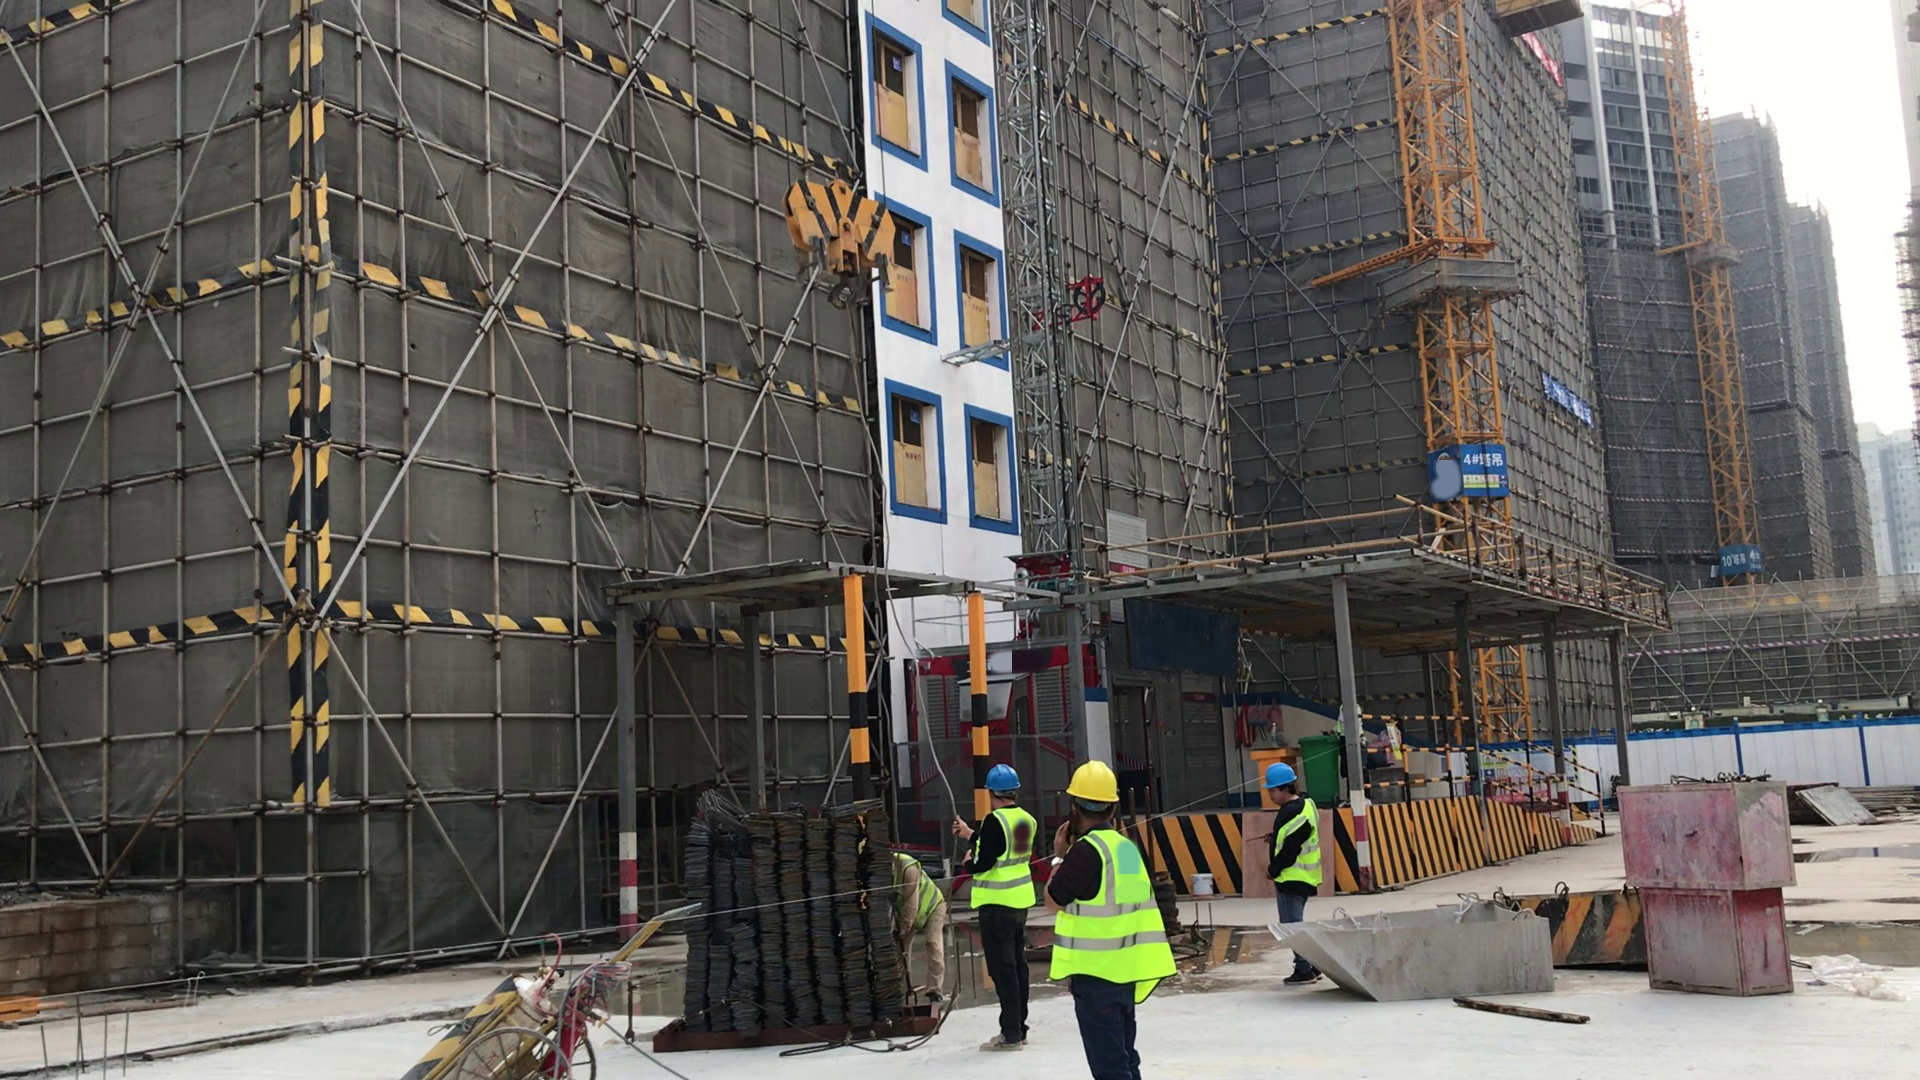board: (1796, 786, 1877, 825)
fence: (1367, 704, 1610, 822)
handcart: (398, 911, 655, 1080)
helmet: (1066, 758, 1135, 804), (982, 757, 1033, 796), (1262, 761, 1304, 789)
hook: (734, 95, 971, 355)
hopper: (1267, 893, 1569, 1024)
person: (1036, 760, 1189, 1080), (956, 753, 1056, 1065), (1250, 758, 1336, 991), (1374, 713, 1411, 764)
rebar: (1850, 778, 1917, 819)
slogan: (1449, 438, 1513, 503), (1540, 373, 1600, 435), (1715, 535, 1771, 584)
vest: (1044, 824, 1175, 1011), (971, 800, 1036, 918), (1262, 799, 1336, 901)
